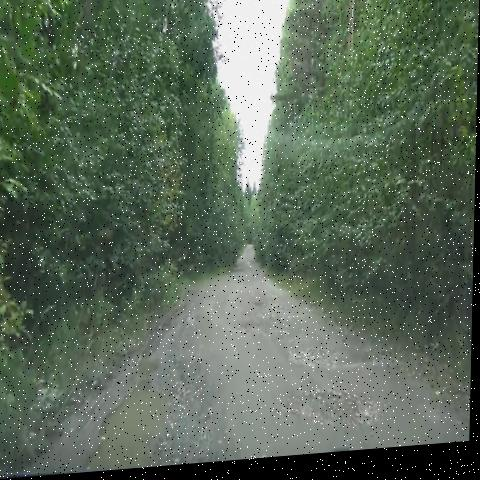pothole: (86, 358, 193, 474), (279, 381, 386, 452), (282, 335, 348, 390), (223, 318, 273, 350), (249, 289, 284, 321)
